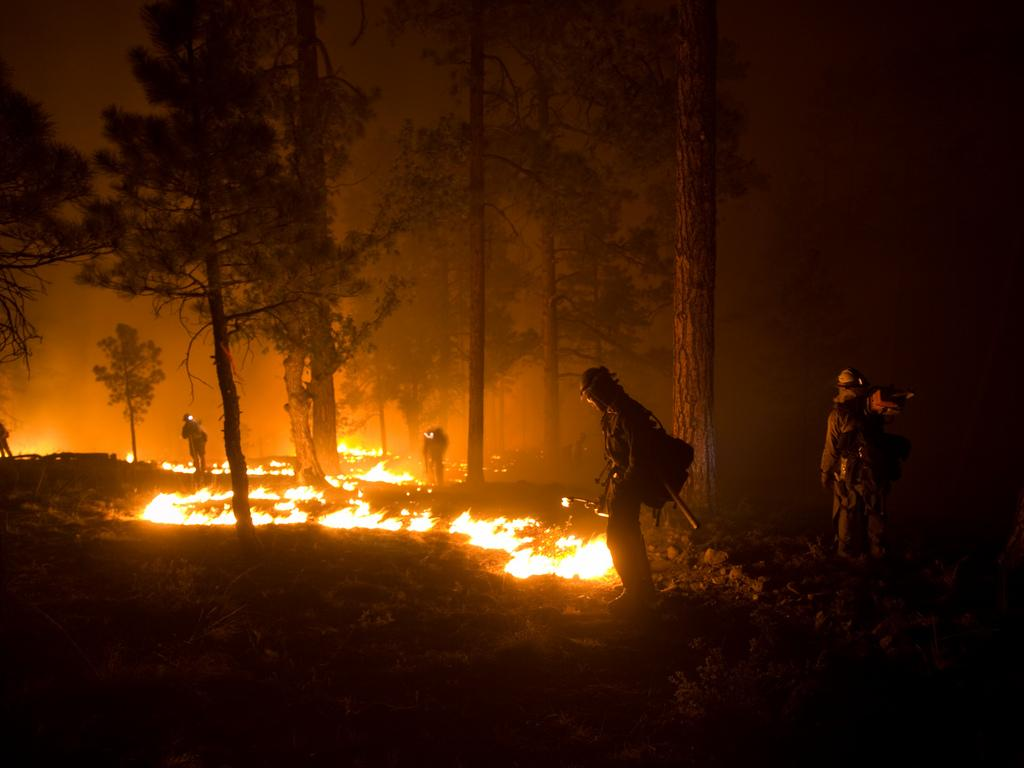fire: (306, 500, 440, 532), (136, 480, 222, 520), (514, 544, 602, 572), (456, 508, 522, 540)
